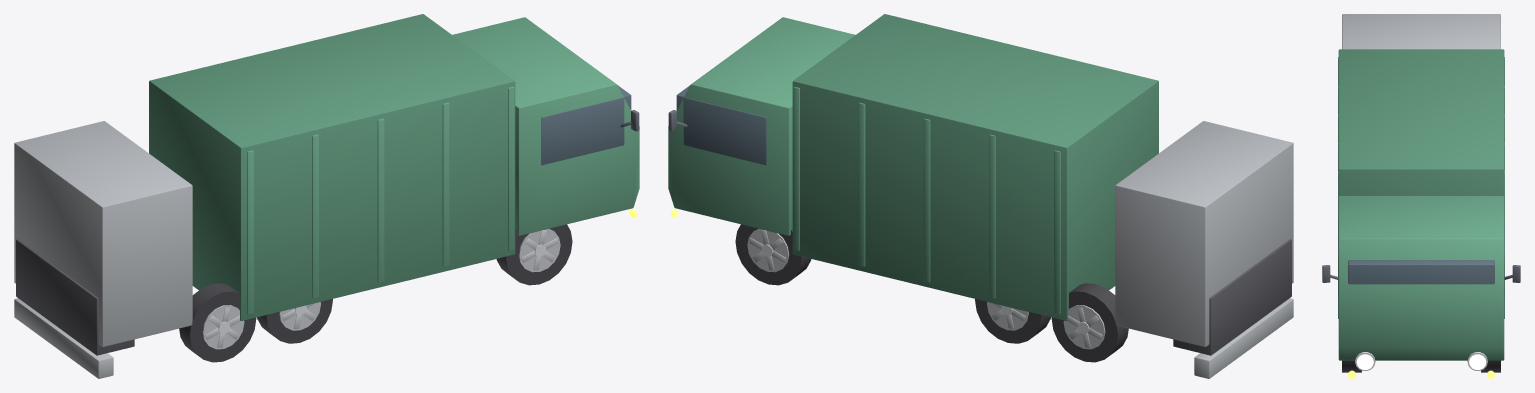
File: th40_muellwagen.glb
The picture shows the model from 3 angles, left to right: view 1: azimuth 30°, elevation 25°; view 2: azimuth 150°, elevation 25°; view 3: azimuth 270°, elevation 25°; orthographic projection. The views are drawn at different scales.
Parts seen in each view (by area): view 1: Cube.002, Cube.008, Fahrerhaus, Cube.009, Cube, Cylinder.032, Cube.012, Cylinder.008, Cube.005, Cube.006, Cylinder.020, Cube.003 (+4 smaller); view 2: Cube.002, Cube.008, Fahrerhaus, Cube.009, Cube, Cylinder.038, Cube.012, Cylinder.014, Cube.005, Cube.006, Cylinder.026, Cube.003 (+4 smaller); view 3: Cube.002, Fahrerhaus, Cube.008, Cube.001, Cube.007, Cylinder.002, Cylinder.005, Cylinder.008, Cylinder.014.
Part boxes in pixels (bbox=[...]): Cube.002: bbox=[149, 14, 515, 320]; Cube.008: bbox=[14, 121, 192, 346]; Fahrerhaus: bbox=[452, 17, 639, 235]; Cube.009: bbox=[16, 239, 134, 355]; Cube: bbox=[541, 97, 624, 165]; Cylinder.032: bbox=[179, 283, 256, 362]; Cube.012: bbox=[14, 298, 113, 378]; Cylinder.008: bbox=[496, 224, 572, 285]; Cube.005: bbox=[377, 118, 384, 282]; Cube.006: bbox=[442, 102, 449, 266]; Cylinder.020: bbox=[257, 299, 332, 343]; Cube.003: bbox=[247, 150, 253, 314]; Cube.002: bbox=[792, 14, 1158, 320]; Cube.008: bbox=[1115, 121, 1293, 346]; Fahrerhaus: bbox=[668, 17, 855, 235]; Cube.009: bbox=[1173, 239, 1291, 355]; Cube: bbox=[683, 97, 766, 165]; Cylinder.038: bbox=[1051, 283, 1128, 362]; Cube.012: bbox=[1194, 298, 1293, 378]; Cylinder.014: bbox=[735, 224, 811, 285]; Cube.005: bbox=[923, 118, 930, 282]; Cube.006: bbox=[858, 102, 865, 266]; Cylinder.026: bbox=[975, 299, 1050, 343]; Cube.003: bbox=[1054, 150, 1060, 314]; Cube.002: bbox=[1338, 49, 1504, 196]; Fahrerhaus: bbox=[1338, 196, 1504, 360]; Cube.008: bbox=[1342, 14, 1500, 49]; Cube.001: bbox=[1348, 260, 1494, 284]; Cube.007: bbox=[1338, 171, 1504, 318]; Cylinder.002: bbox=[1356, 354, 1373, 369]; Cylinder.005: bbox=[1469, 354, 1486, 369]; Cylinder.008: bbox=[1342, 360, 1361, 372]; Cylinder.014: bbox=[1481, 360, 1500, 372].
Bounding box in the file's own units: 8.46 × 3.16 × 3.
